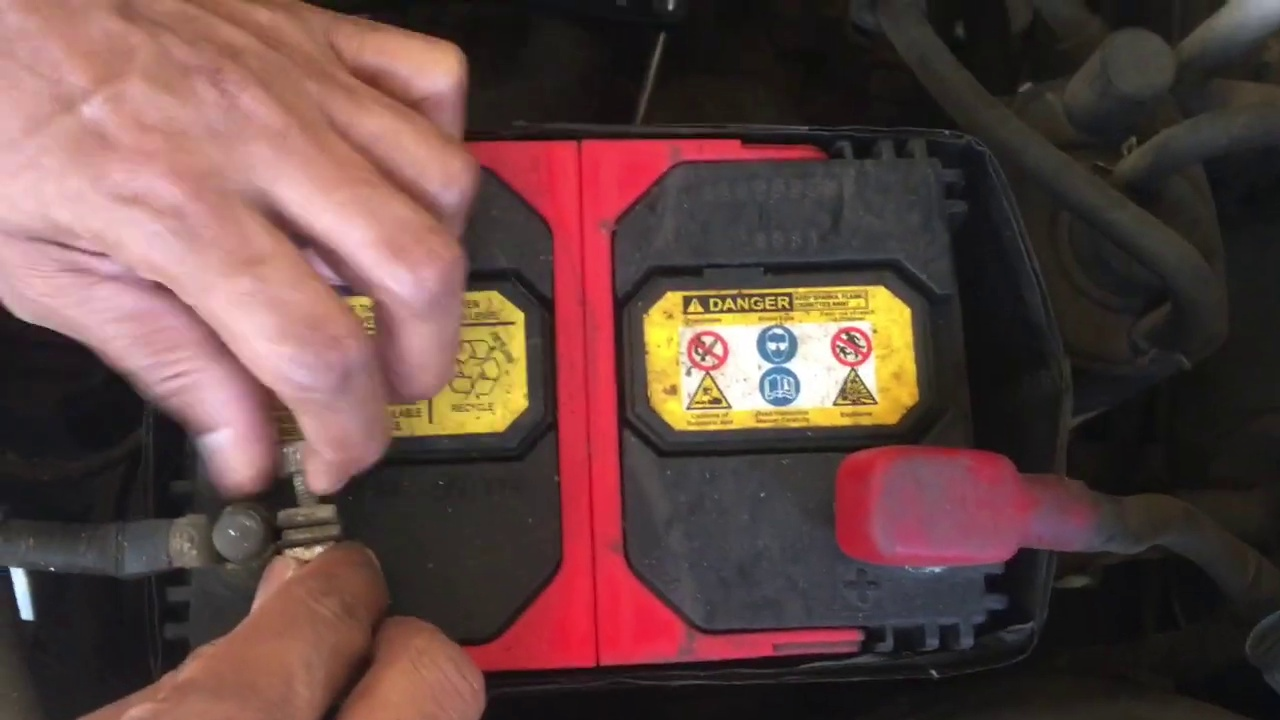battery: (217, 139, 1015, 662)
neg_touched: (139, 277, 458, 681)
pos_connected: (820, 421, 1119, 586)
